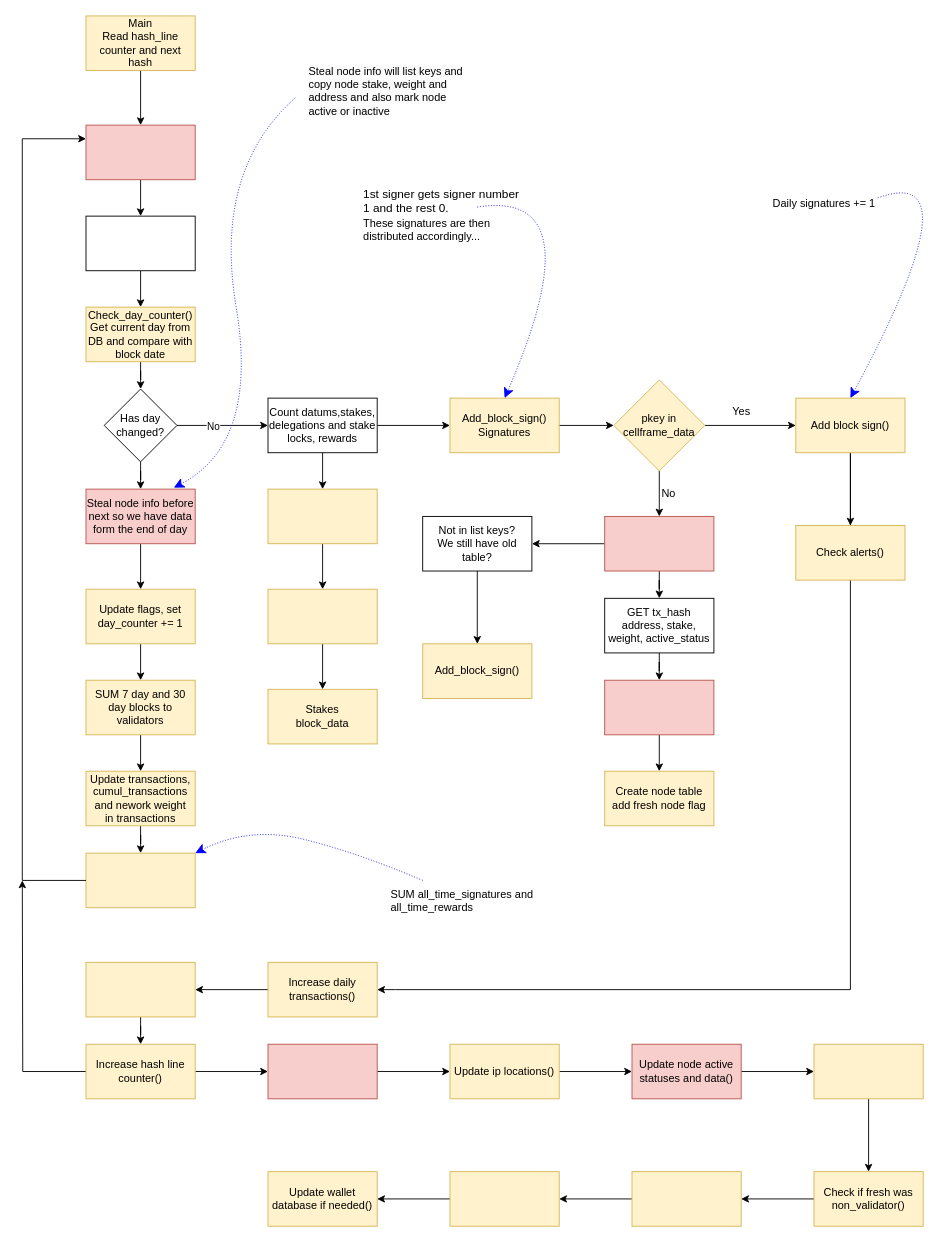
The diagram is 939 pixels wide and 1242 high, and some of its shapes have lost their labels. The shapes that lost their labels are listed below. From the top down, each one's box as (x1, y1, x2, y2) in pixels, then its label:
(85, 124, 195, 180): Check_delegations() Block dump
(85, 215, 195, 271): Get_block_date()
(267, 488, 377, 544): Delegation -> Node_wallets
(604, 516, 714, 571): CLI list keys
(267, 588, 377, 644): Datums
(604, 679, 714, 735): Node dump
(85, 852, 195, 908): Initialize new day() Get all node names add 1 line
(85, 961, 195, 1017): Add last hash()
(267, 1043, 377, 1099): Update non validators list()
(813, 1043, 923, 1099): Update block reward()
(449, 1171, 559, 1226): Check wallet database date()
(631, 1171, 741, 1226): Update node versions()
